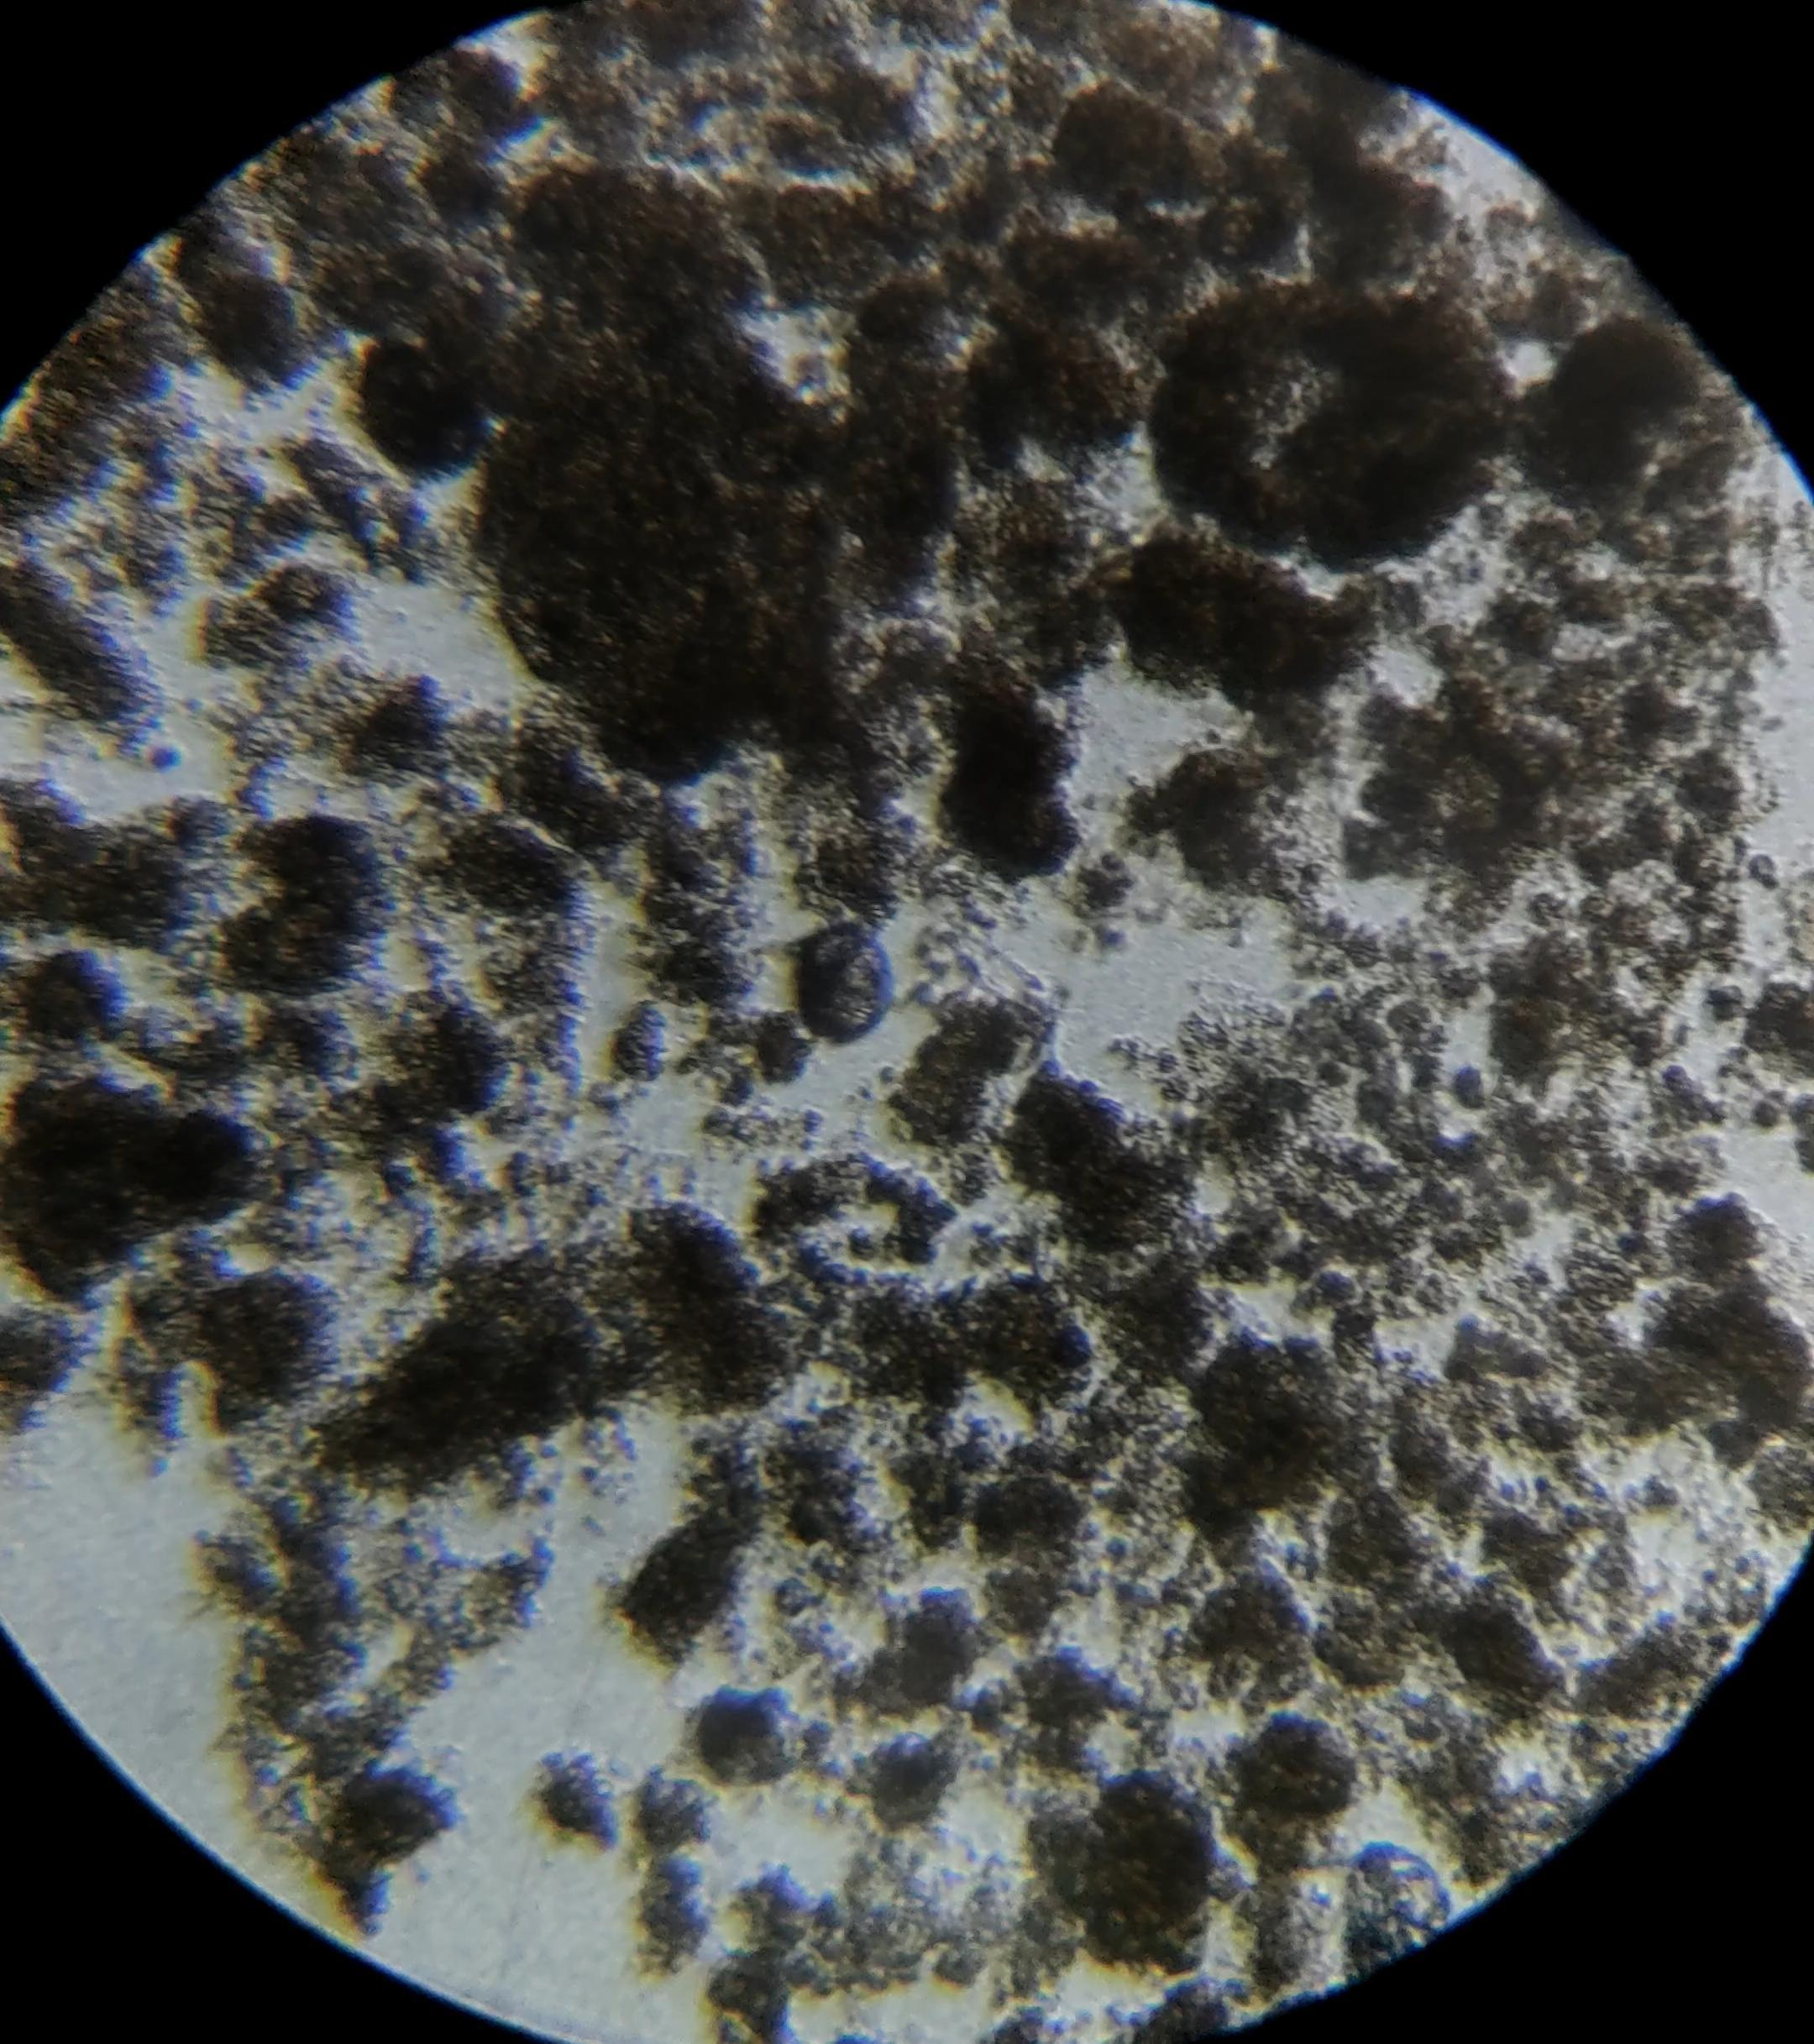Mo: (1297, 1844, 1448, 1988)
